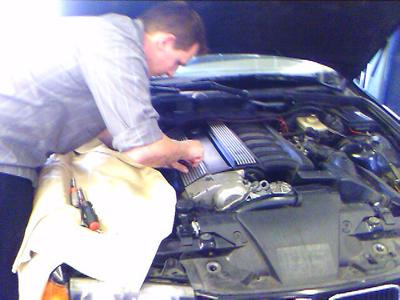person: (2, 3, 208, 300)
